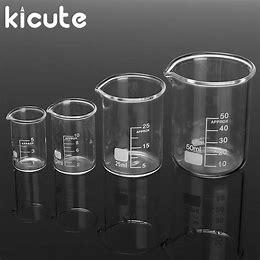Beaker: (165, 43, 253, 181), (97, 62, 165, 179), (44, 90, 97, 174), (7, 96, 44, 176)
